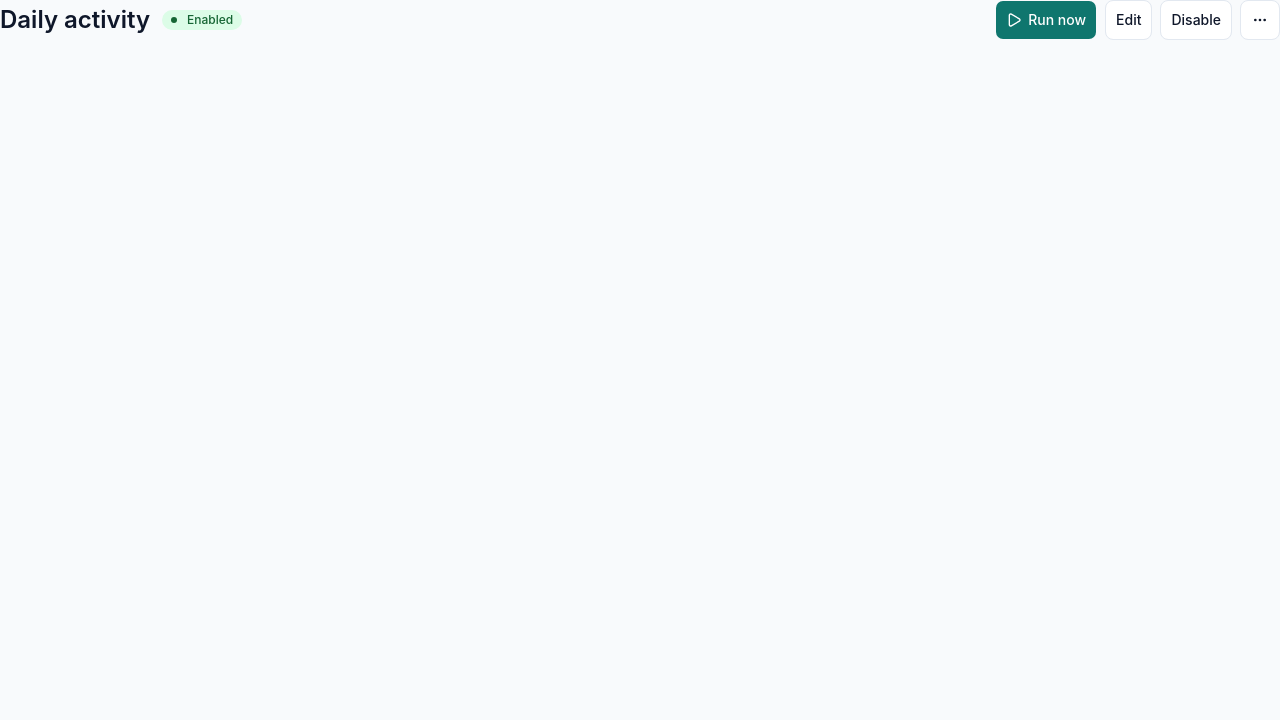
WorkflowHeader › shows a confirmation dialog before disabling, and cancel does not send a request
Check: the button "Run now" is shown, box x1=995 y1=0 x2=1097 y2=40
Click the button "Disable" at (1196, 20), box x1=1160 y1=0 x2=1232 y2=40
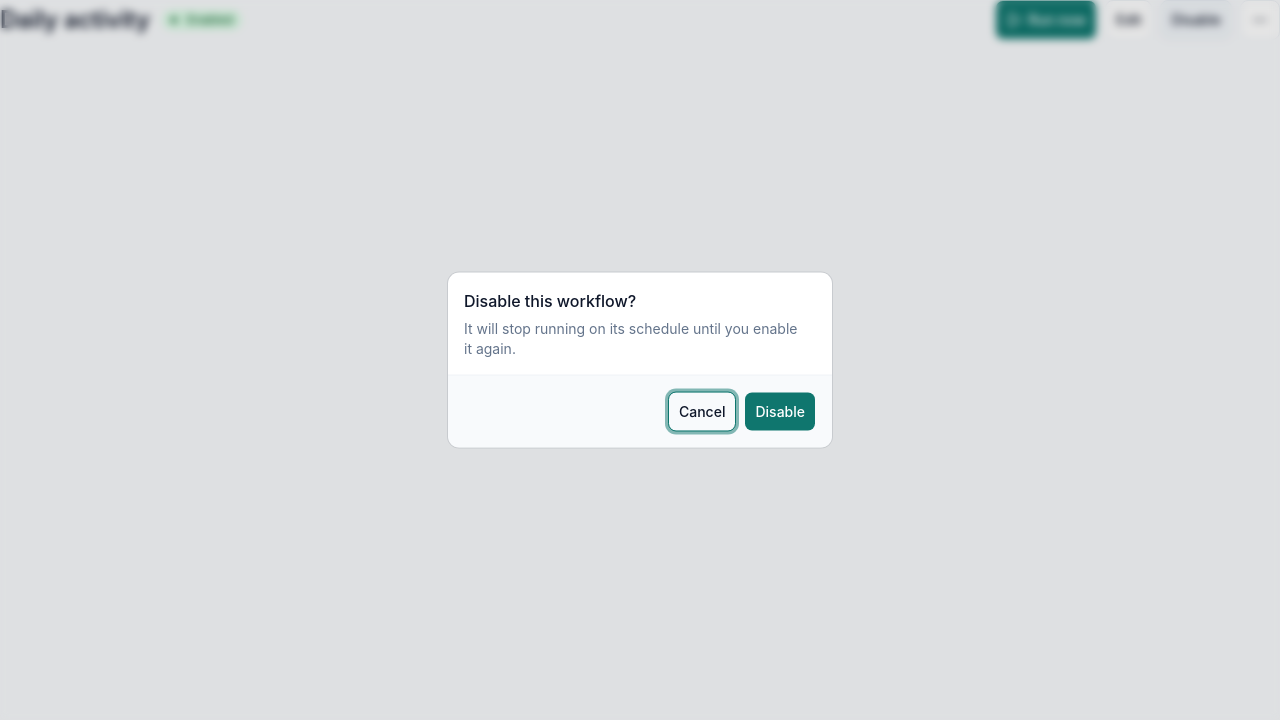
Check: the heading "Disable this workflow?" is shown, box x1=464 y1=288 x2=636 y2=312
Click the button "Cancel" at (702, 412), box x1=668 y1=392 x2=736 y2=432
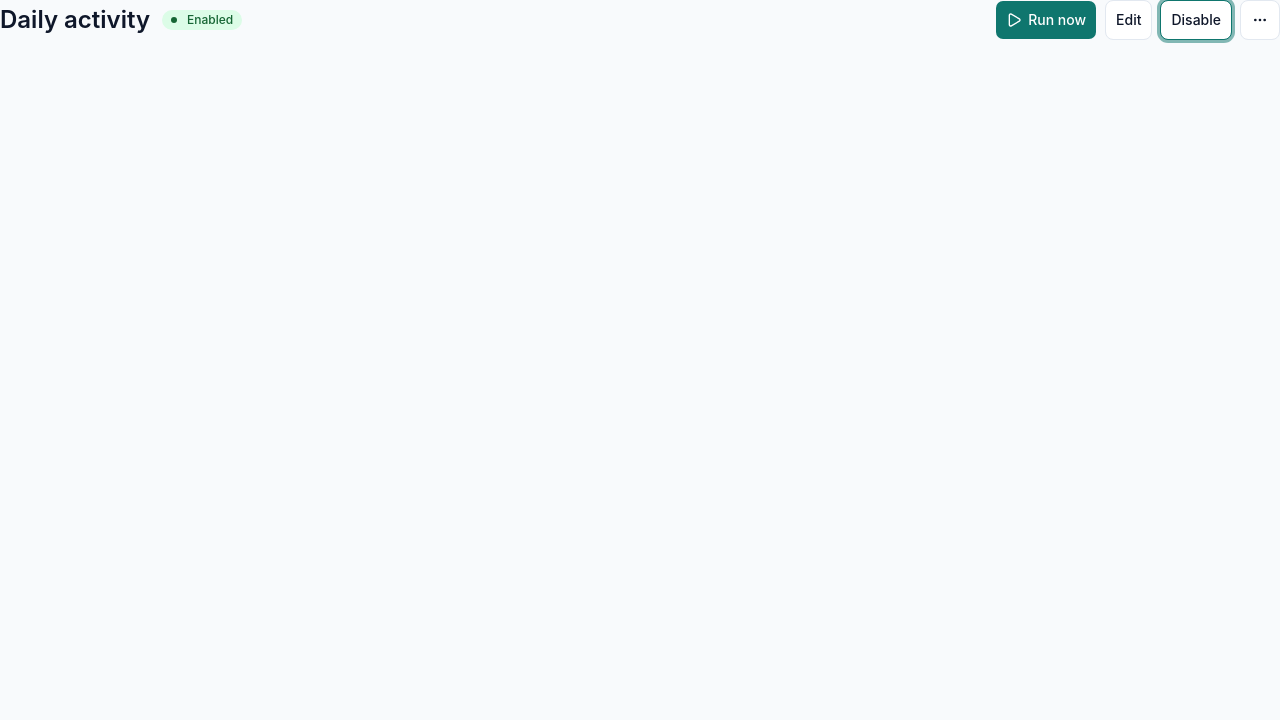
Check: the dialog is gone
